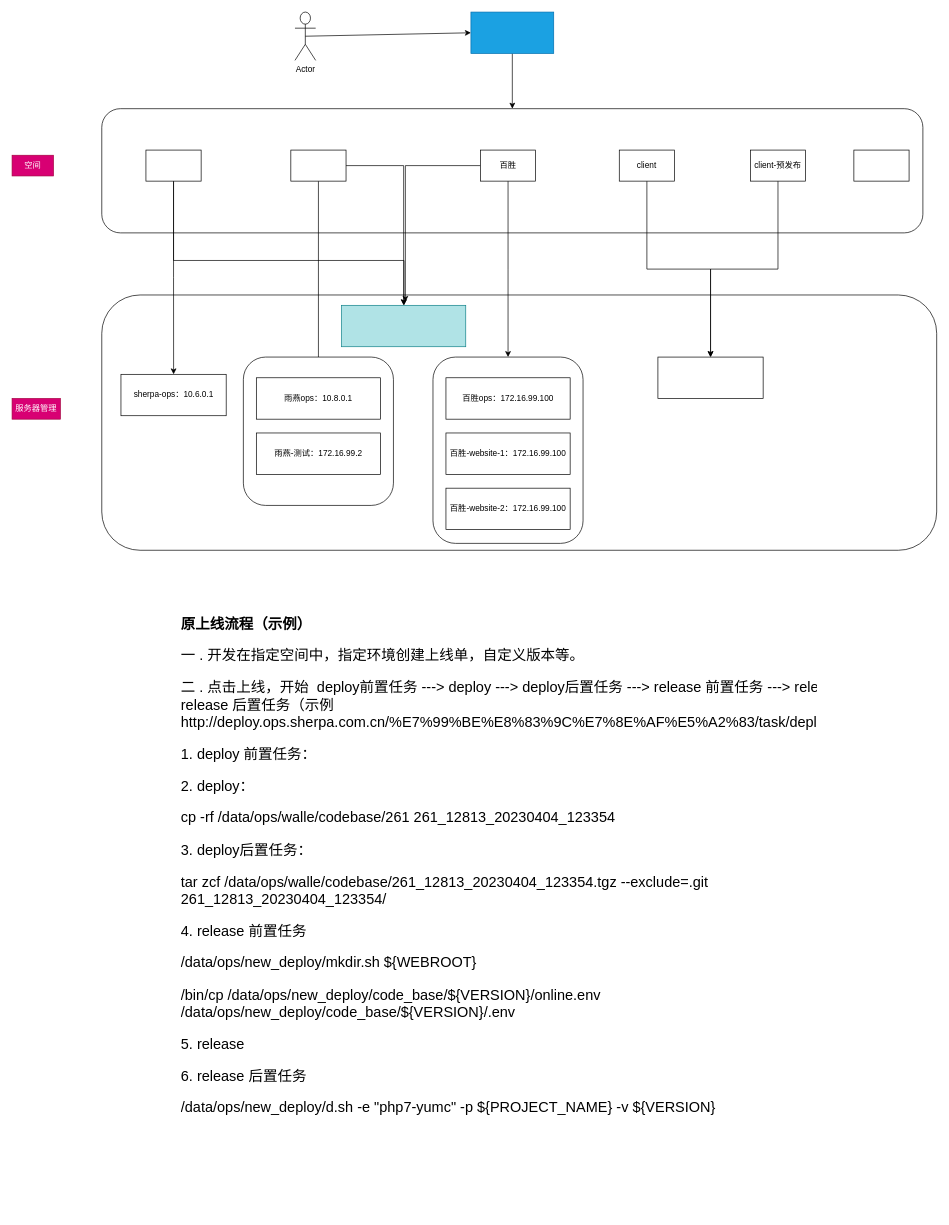
Image size: 949x1225. Some labels were removed from this diagram. The centre of each missing label's shape, as x and y in pixels:
"OPS" goes at point 881,165.
"sherpa" goes at point 173,165.
"walle （172.16.99.2）" goes at point 512,32.
"website：10.6.0.141" goes at point 710,377.
"测试环境：172.16.99.2" goes at point 403,326.
"雨燕" goes at point 318,165.
